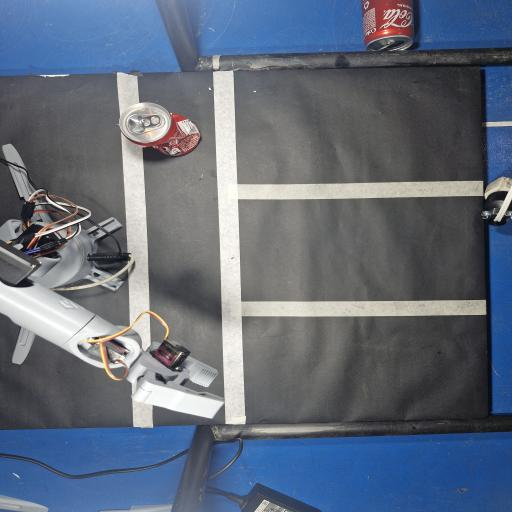lata_defectuoso: (119, 103, 200, 156)
